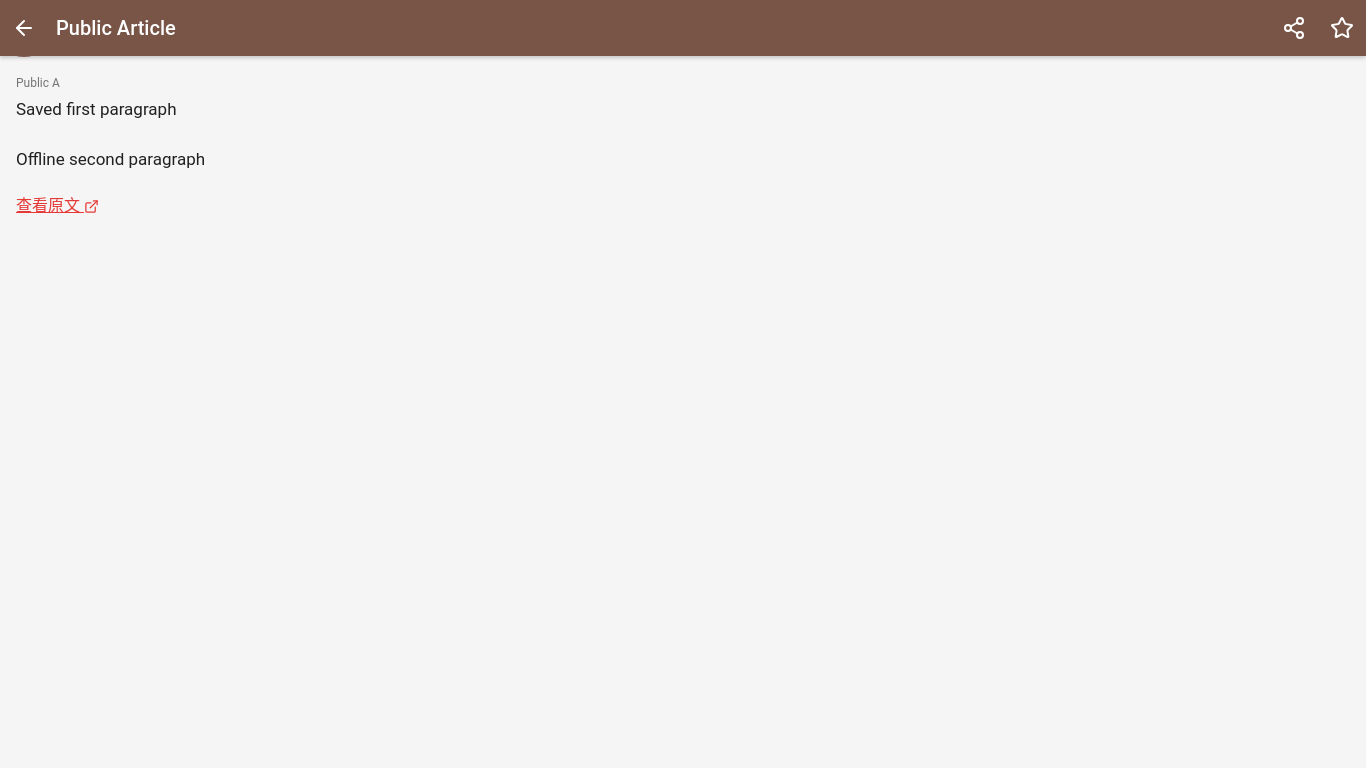
Test case: immediately saves a new article and retains it when closing the title editor
This screenshot has width=1366, height=768.
Later steps or results of the test are not shown.
Click the button named "收藏文章": (1342, 28) [1318,4,1365,52]
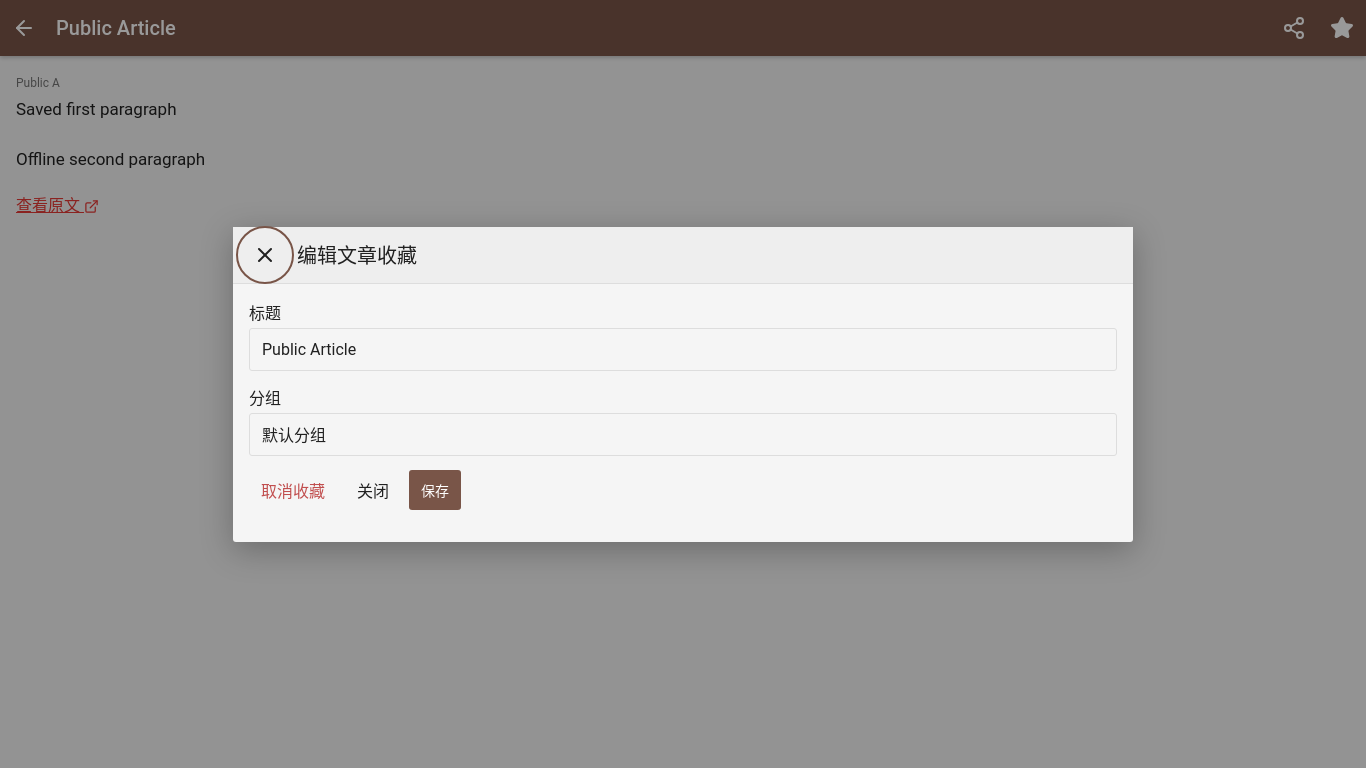
Result: the form with class "favorite-form" is shown at [249,300,1117,510]
